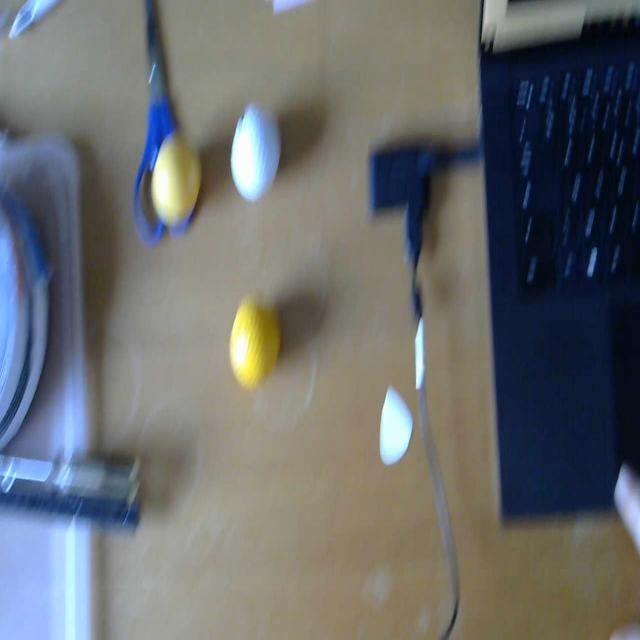golfball: (227, 92, 287, 208), (224, 289, 286, 394), (147, 124, 205, 233)
